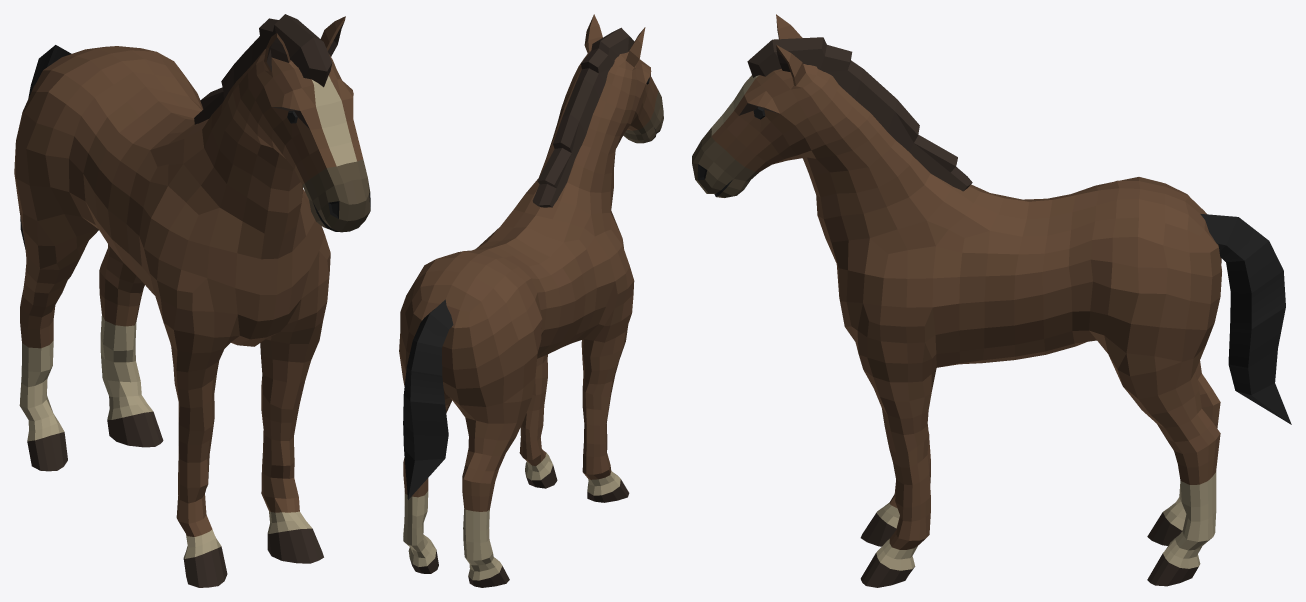
The model's file is Cavallo.fbx.
3 views of the same model, side by side, from view 1: azimuth 30°, elevation 25°; view 2: azimuth 150°, elevation 25°; view 3: azimuth 270°, elevation 25° (orthographic). The views are drawn at different scales.
Visible parts, largest first — view 1: Colore_Cavallo, Cavallo_Marrone_Scuro, Cavallo_Beige, Cavallo_Marrone_Chiaro, Cavallo_Nero; view 2: Colore_Cavallo, Cavallo_Marrone_Scuro, Cavallo_Nero, Cavallo_Beige, Cavallo_Marrone_Chiaro; view 3: Colore_Cavallo, Cavallo_Marrone_Scuro, Cavallo_Nero, Cavallo_Beige, Cavallo_Marrone_Chiaro.
Part boxes in pixels (x1=…): Colore_Cavallo: x1=14, y1=16, x2=363, y2=536; Cavallo_Marrone_Scuro: x1=27, y1=14, x2=344, y2=587; Cavallo_Beige: x1=19, y1=75, x2=356, y2=558; Cavallo_Marrone_Chiaro: x1=302, y1=159, x2=370, y2=232; Cavallo_Nero: x1=20, y1=45, x2=370, y2=249; Colore_Cavallo: x1=399, y1=14, x2=658, y2=511; Cavallo_Marrone_Scuro: x1=410, y1=27, x2=650, y2=587; Cavallo_Nero: x1=403, y1=77, x2=656, y2=499; Cavallo_Beige: x1=403, y1=453, x2=620, y2=580; Cavallo_Marrone_Chiaro: x1=623, y1=90, x2=663, y2=143; Colore_Cavallo: x1=711, y1=14, x2=1221, y2=549; Cavallo_Marrone_Scuro: x1=739, y1=37, x2=1198, y2=587; Cavallo_Nero: x1=697, y1=107, x2=1291, y2=424; Cavallo_Beige: x1=711, y1=75, x2=1216, y2=570; Cavallo_Marrone_Chiaro: x1=692, y1=128, x2=758, y2=197.
Bounding box in the file's own units: 74.4 × 243 × 250.
